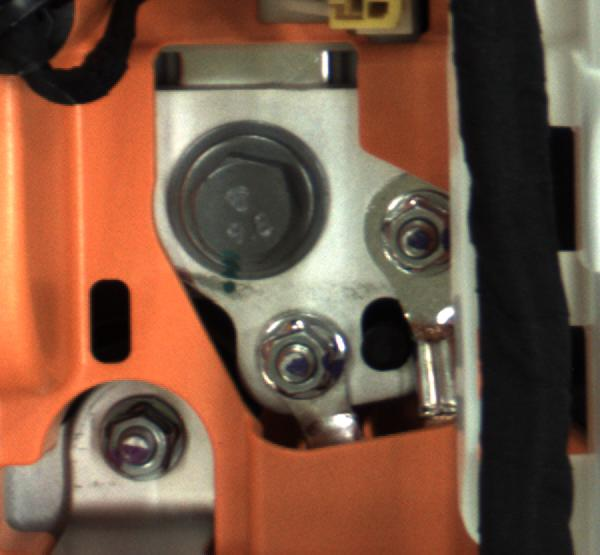nut_b: (159, 123, 333, 291)
screw_s: (94, 398, 190, 484), (261, 317, 350, 398), (380, 200, 452, 270)
